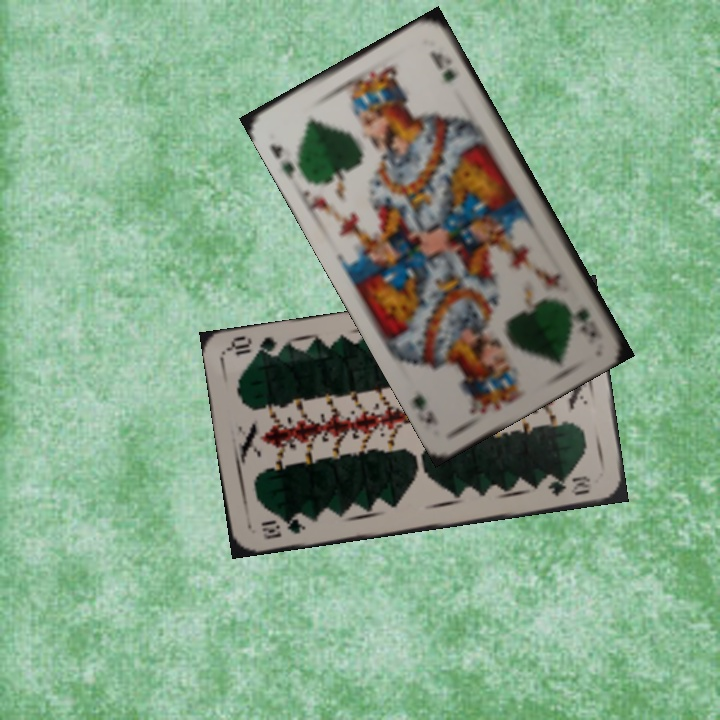G10: (257, 514, 308, 542)
GK: (266, 140, 297, 183), (571, 303, 600, 340)
